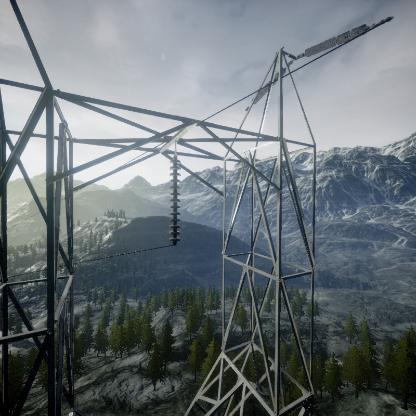insulator: (296, 18, 388, 58), (167, 154, 185, 244), (250, 65, 287, 105)
